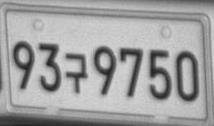0: (175, 49, 200, 102)
3: (38, 41, 62, 92)
5: (148, 48, 172, 100)
7: (118, 47, 144, 97)
9: (92, 45, 117, 95), (12, 40, 35, 89)
구: (64, 52, 88, 94)
